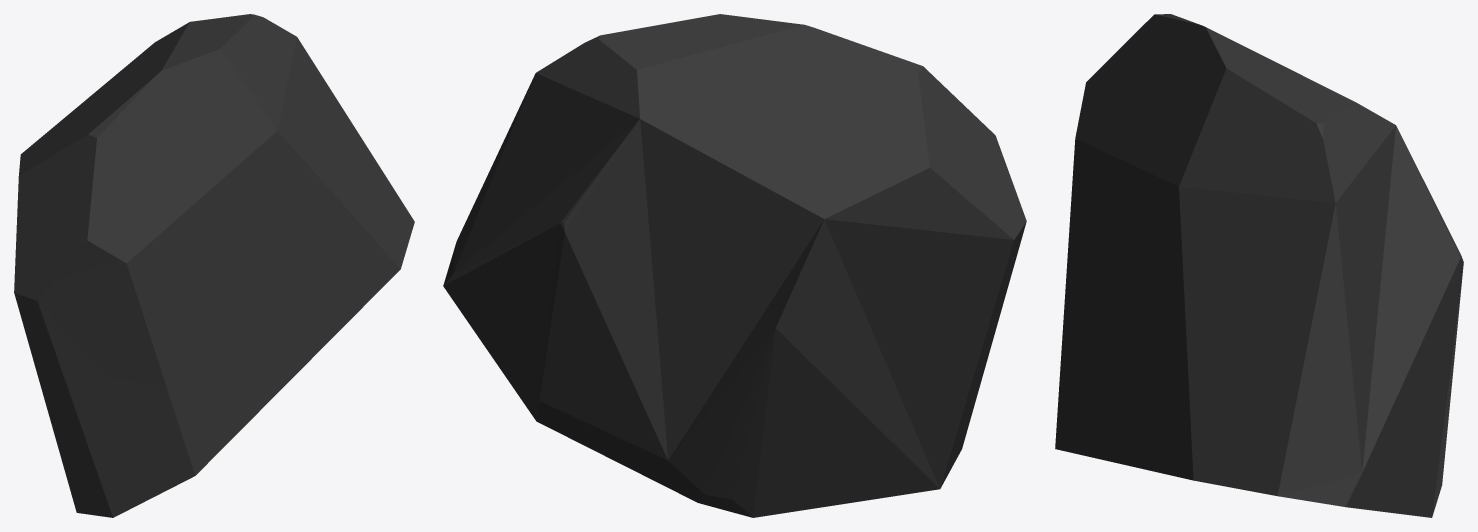
The model's file is Scrap(Particle).obj.
3 views of the same model, side by side, from view 1: azimuth 30°, elevation 25°; view 2: azimuth 150°, elevation 25°; view 3: azimuth 270°, elevation 25° (orthographic). The views are drawn at different scales.
Parts seen in each view (by area): view 1: defaultMaterial_-_copy.002; view 2: defaultMaterial_-_copy.002; view 3: defaultMaterial_-_copy.002.
Boxes of the visible parts, left/top/right/bottom form: defaultMaterial_-_copy.002: left=14, top=14, right=414, bottom=517; defaultMaterial_-_copy.002: left=443, top=14, right=1026, bottom=517; defaultMaterial_-_copy.002: left=1055, top=14, right=1463, bottom=517.
Bounding box in the file's own units: 0.2262 × 0.194 × 0.1438.
1 material, 1 textured.
